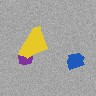hold: (18, 26, 47, 59), (67, 54, 84, 70)
volume: (18, 48, 33, 64)
